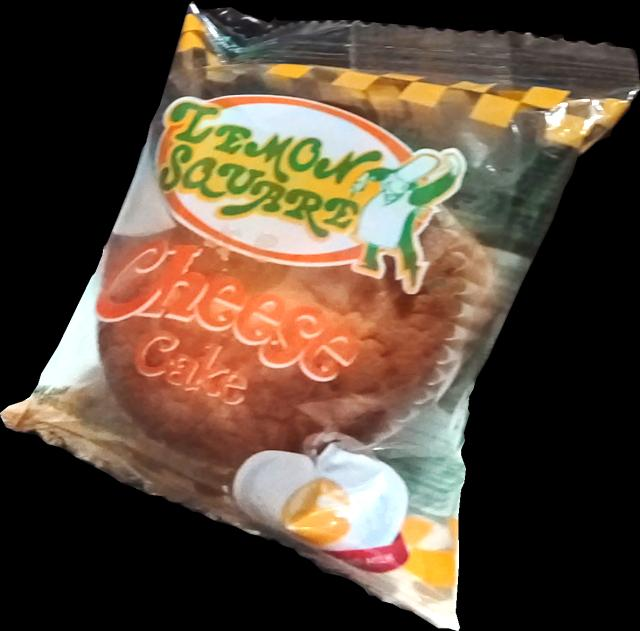lemon square: (0, 1, 640, 631)
